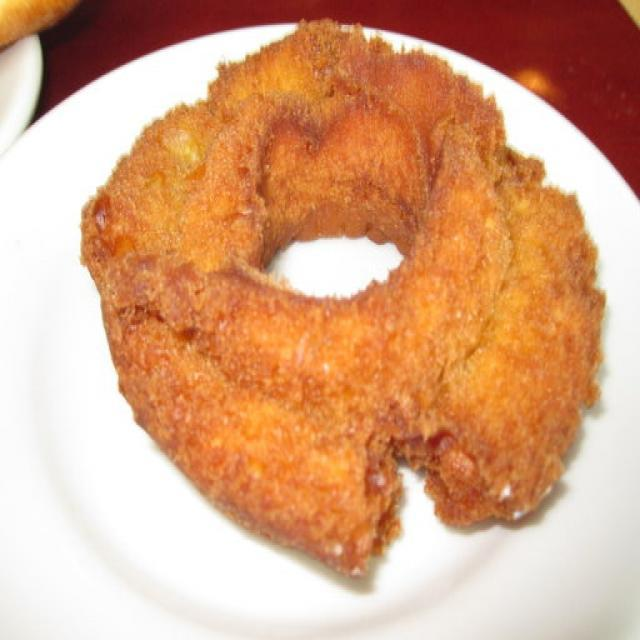Donuts: (98, 23, 629, 591)
